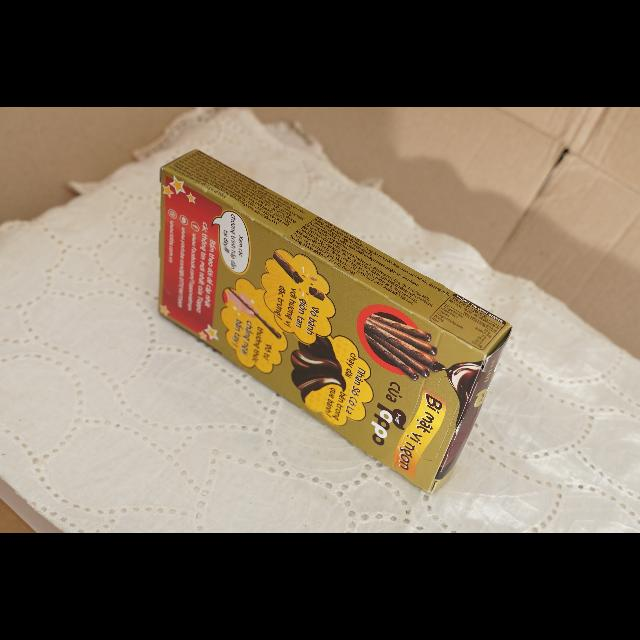banh_toppo_socola: (159, 150, 511, 493)
